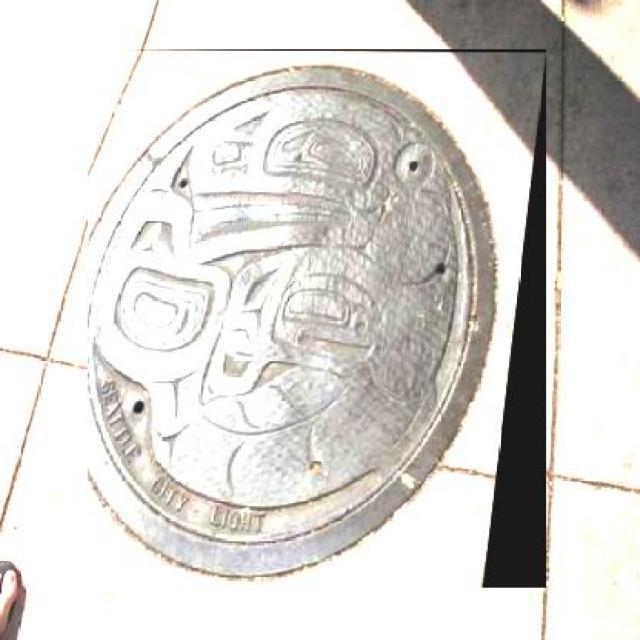Manhole: (88, 49, 546, 588)
